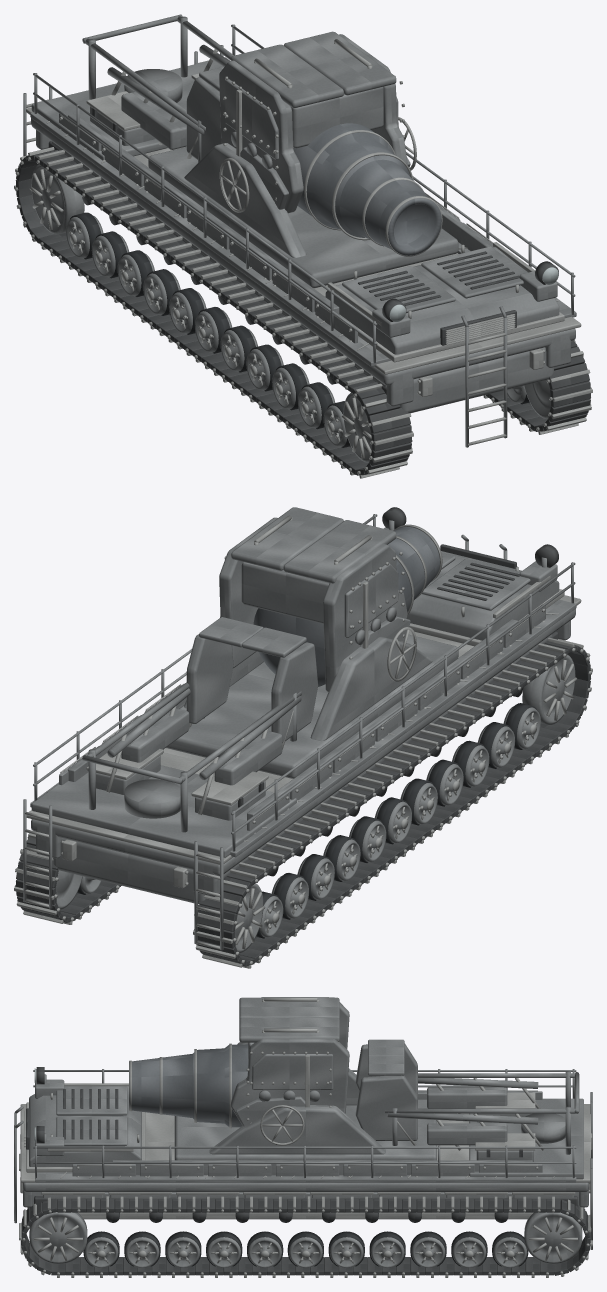
Rendered from portable-kit.glb.
3 views of the same model, one above another, from view 1: azimuth 30°, elevation 25°; view 2: azimuth 150°, elevation 25°; view 3: azimuth 270°, elevation 25° (orthographic). The views are drawn at different scales.
Visible parts, largest first — view 1: mortar-tube, sculpted-carriage-bed, stepped-front-cast-hood, upper-deck-step, triangular-cast-support--1, walkway--1, outer-cast-cheek--1, long-main-hull, cradle-top-lid--1, cradle-top-lid-1, cradle-central-upper-mass, rear-platform (+42 smaller); view 2: sculpted-carriage-bed, rear-platform, triangular-cast-support--1, upper-deck-step, mortar-tube, long-main-hull, walkway--1, stepped-front-cast-hood, outer-cast-cheek--1, cradle-central-upper-mass, cradle-top-lid--1, cradle-top-lid-1 (+41 smaller); view 3: mortar-tube, upper-deck-step, triangular-cast-support-1, sculpted-carriage-bed, walkway-1, outer-cast-cheek-1, rear-upright-shell-1, stepped-front-cast-hood, deck-perimeter-trim, rear-platform, cradle-stepped-cast-cover-1, side-carrier-lower-fillet-1 (+47 smaller).
Part boxes in pixels (box(x1,y1,x2,y2)): mortar-tube: box(293, 123, 441, 255); sculpted-carriage-bed: box(148, 147, 458, 288); stepped-front-cast-hood: box(325, 247, 559, 354); upper-deck-step: box(31, 118, 575, 385); triangular-cast-support--1: box(184, 143, 306, 257); walkway--1: box(30, 112, 390, 366); outer-cast-cheek--1: box(219, 60, 303, 213); long-main-hull: box(399, 347, 553, 413); cradle-top-lid--1: box(231, 44, 343, 107); cradle-top-lid-1: box(283, 31, 396, 95); cradle-central-upper-mass: box(291, 87, 383, 148); rear-platform: box(31, 57, 230, 160); sculpted-carriage-bed: box(166, 634, 458, 778); rear-platform: box(31, 765, 296, 857); triangular-cast-support--1: box(310, 636, 432, 741); upper-deck-step: box(31, 608, 575, 875); mortar-tube: box(253, 526, 439, 686); long-main-hull: box(53, 838, 205, 904); walkway--1: box(230, 599, 576, 857); stepped-front-cast-hood: box(406, 551, 559, 640); outer-cast-cheek--1: box(323, 544, 407, 691); cradle-central-upper-mass: box(241, 562, 329, 623); cradle-top-lid--1: box(283, 520, 396, 583); cradle-top-lid-1: box(231, 507, 343, 570); mortar-tube: box(129, 1044, 248, 1127); upper-deck-step: box(23, 1182, 588, 1191); triangular-cast-support-1: box(209, 1105, 385, 1154); sculpted-carriage-bed: box(174, 1099, 436, 1160); walkway-1: box(35, 1172, 576, 1182); outer-cast-cheek-1: box(231, 1038, 349, 1125); rear-upright-shell-1: box(355, 1075, 417, 1140); stepped-front-cast-hood: box(29, 1086, 141, 1166); deck-perimeter-trim: box(20, 1104, 590, 1182); rear-platform: box(469, 1098, 583, 1179); cradle-stepped-cast-cover-1: box(252, 1054, 333, 1089); side-carrier-lower-fillet-1: box(78, 1212, 533, 1219).
Bounding box in the file's own units: 3.69 × 4.49 × 10.6.
Materials: 6 (6 with a texture image).
